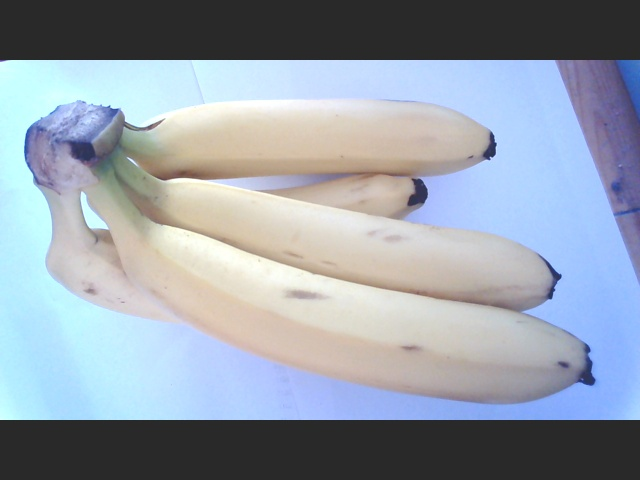banana: (25, 77, 601, 396)
